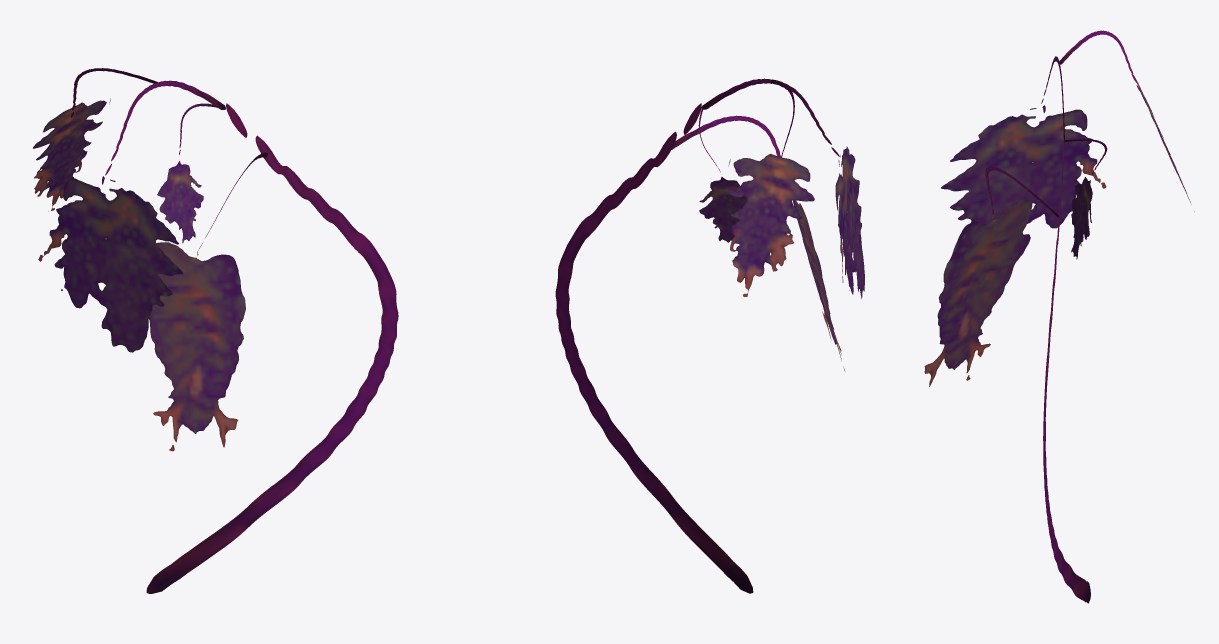
File: Spin Reef Flower C2.fbx
The picture shows the model from 3 angles, left to right: view 1: azimuth 30°, elevation 25°; view 2: azimuth 150°, elevation 25°; view 3: azimuth 270°, elevation 25°; orthographic projection. The views are drawn at different scales.
Visible parts, largest first — view 1: Spin Reef Flower C2; view 2: Spin Reef Flower C2; view 3: Spin Reef Flower C2.
Part boxes in pixels (x1,y1,x2,y2): Spin Reef Flower C2: (33, 68, 398, 593); Spin Reef Flower C2: (555, 78, 864, 593); Spin Reef Flower C2: (924, 30, 1194, 603).
Bounding box in the file's own units: 95.49 × 138 × 61.73.
